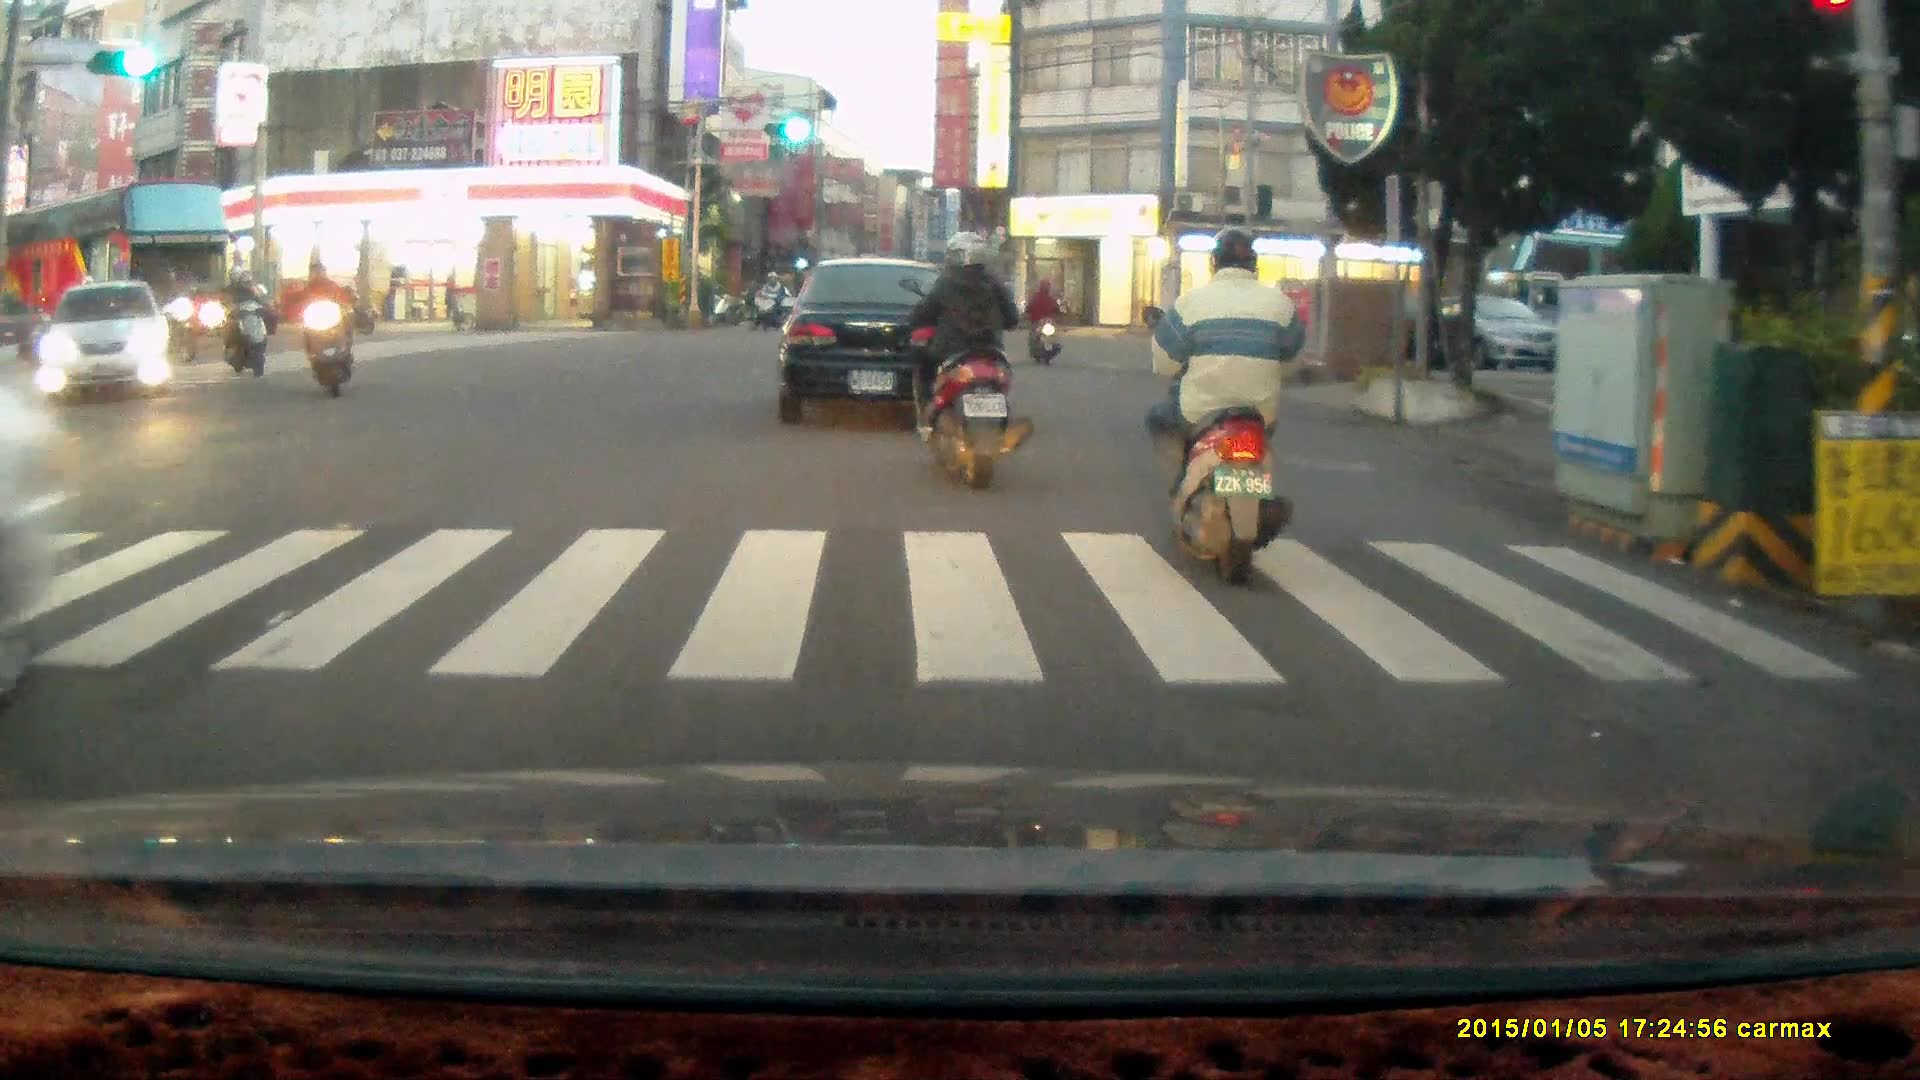rider: (1138, 229, 1296, 586), (896, 225, 1035, 493), (295, 257, 358, 402), (214, 263, 271, 381), (1024, 274, 1063, 366), (750, 272, 782, 335)
vehicle: (4, 182, 233, 354), (36, 278, 171, 400), (1387, 288, 1573, 374)
